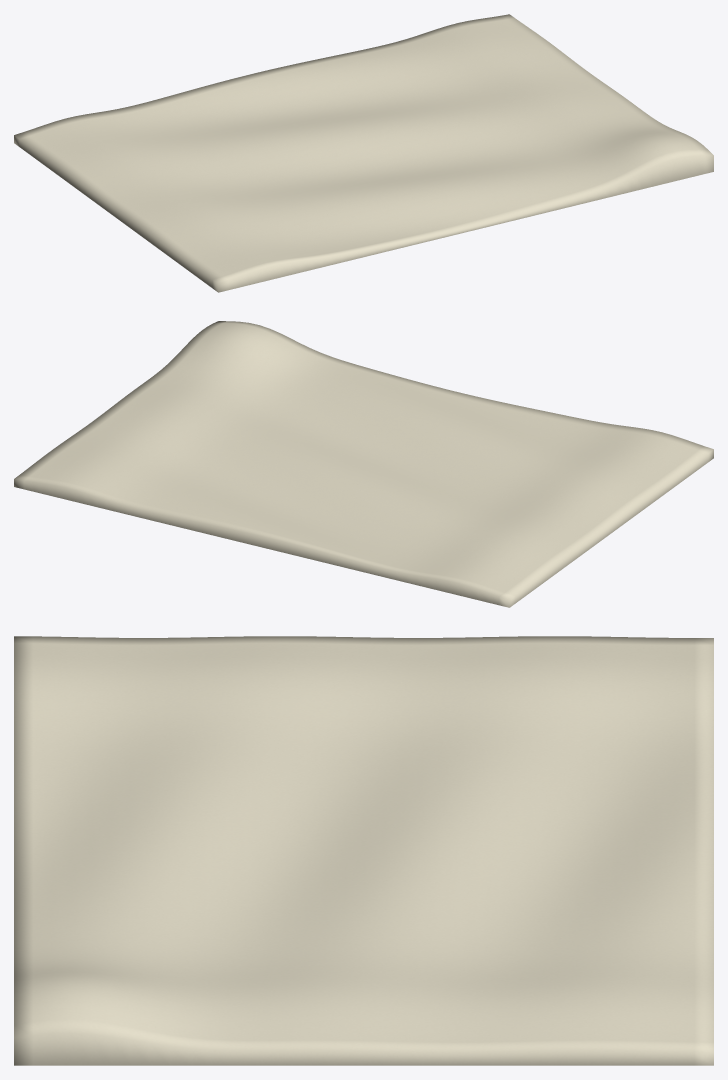
Rendered from PRP_Blanket_FlatTrap.fbx.
The picture shows the model from 3 angles, top to bottom: view 1: azimuth 30°, elevation 25°; view 2: azimuth 150°, elevation 25°; view 3: azimuth 270°, elevation 25°; orthographic projection. The views are drawn at different scales.
Parts seen in each view (by area): view 1: PRP_Blanket_FlatTrap; view 2: PRP_Blanket_FlatTrap; view 3: PRP_Blanket_FlatTrap.
Part boxes in pixels (box(x1,y1,x2,y2)): PRP_Blanket_FlatTrap: box(14, 14, 713, 292); PRP_Blanket_FlatTrap: box(14, 321, 713, 607); PRP_Blanket_FlatTrap: box(14, 636, 713, 1065).
Bounding box in the file's own units: 140 × 7.08 × 100.
